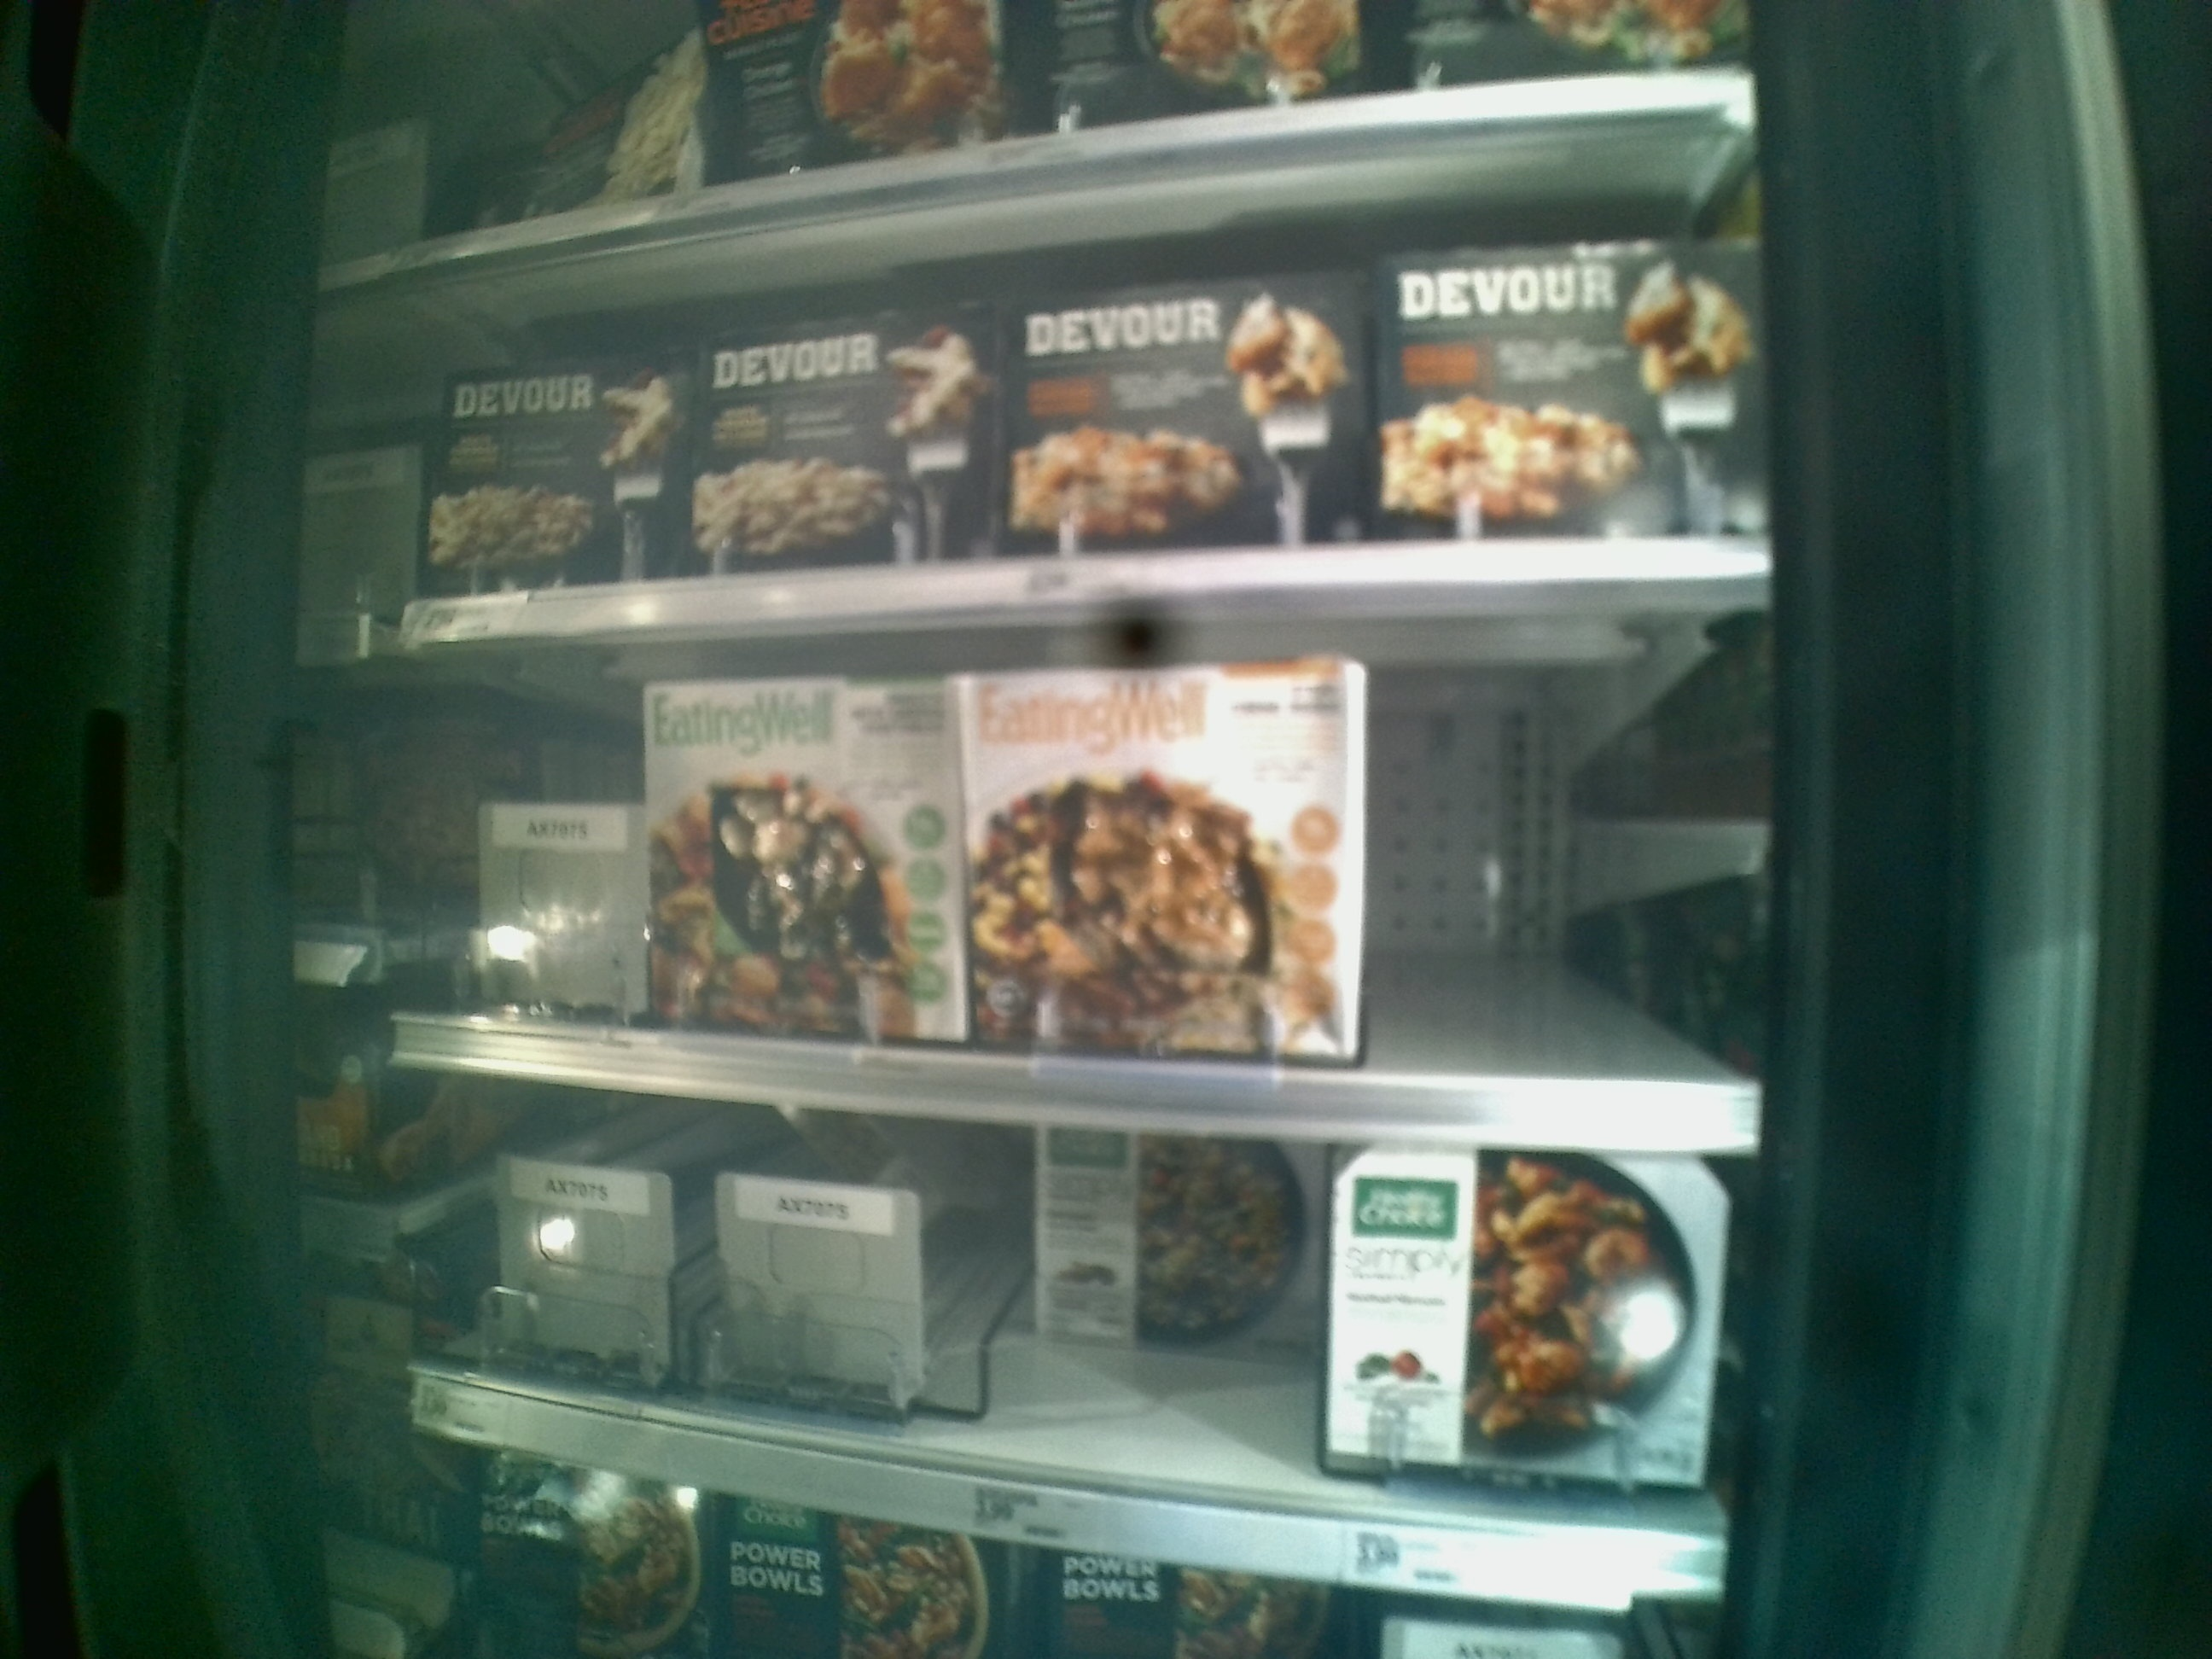shelf: (399, 596, 1766, 1148), (366, 129, 1764, 636)
